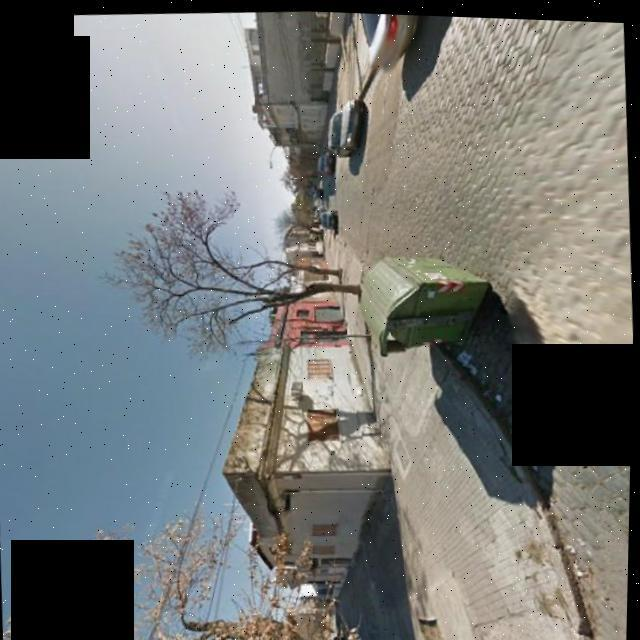bin: (352, 235, 513, 382)
